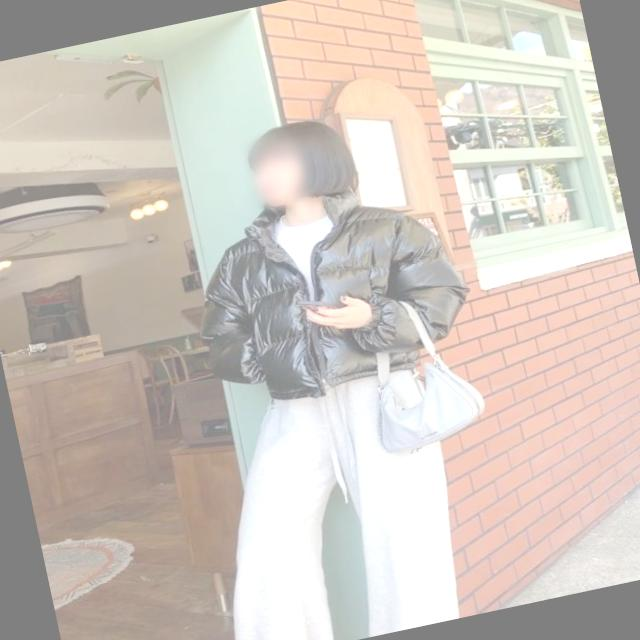padding: (177, 164, 483, 422)
trainingpants: (183, 363, 478, 640)
